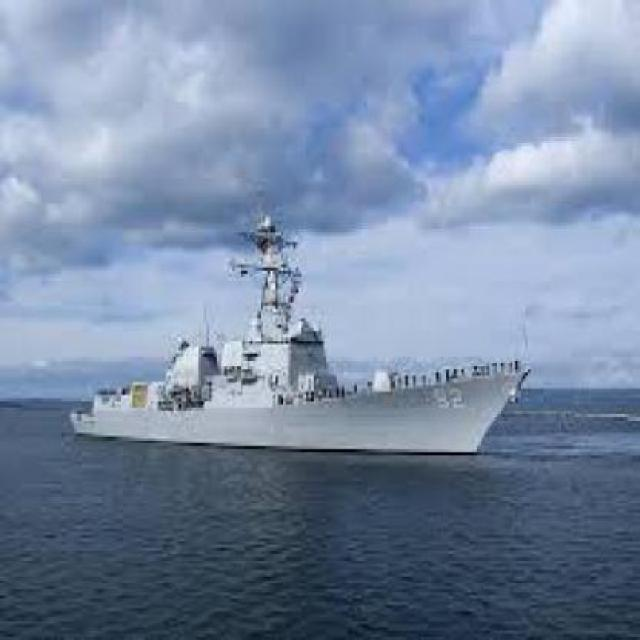warship2: (42, 176, 531, 463)
